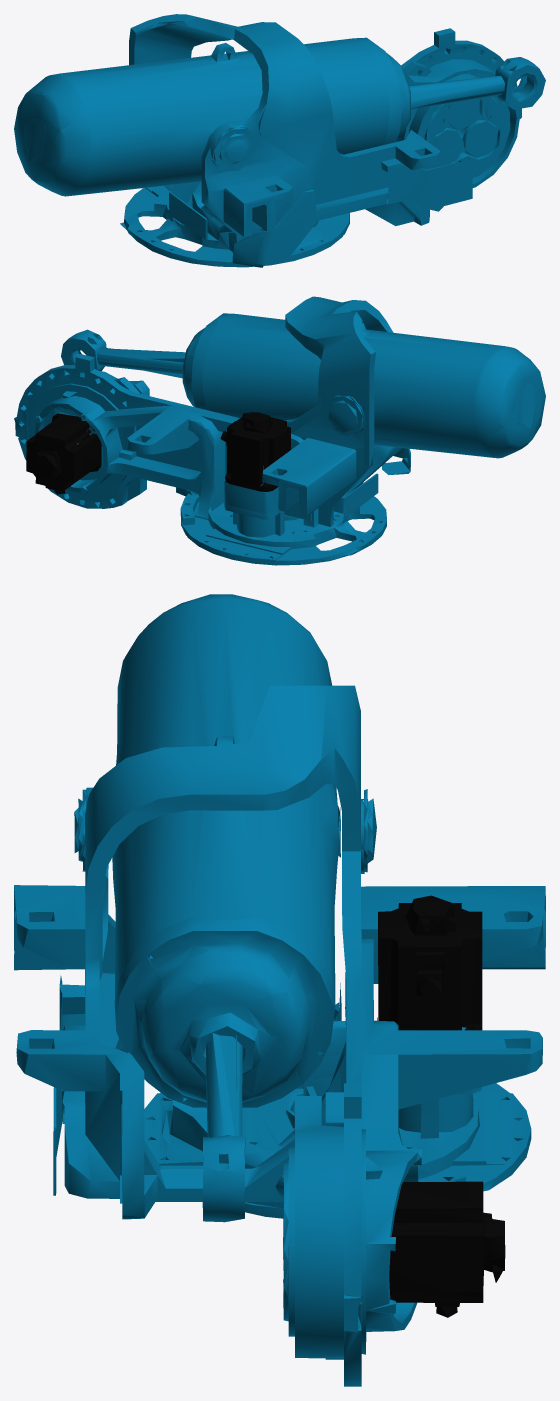
The picture shows the model from 3 angles, top to bottom: view 1: azimuth 30°, elevation 25°; view 2: azimuth 150°, elevation 25°; view 3: azimuth 270°, elevation 25°; orthographic projection. The views are drawn at different scales.
Visible parts, largest first — view 1: es165rd-a00_lk1; view 2: es165rd-a00_lk1; view 3: es165rd-a00_lk1.
Boxes of the visible parts, <box> form: es165rd-a00_lk1: <box>14,14,545,267</box>; es165rd-a00_lk1: <box>14,296,545,565</box>; es165rd-a00_lk1: <box>14,594,545,1386</box>.
Bounding box in the file's own units: 1.83 × 0.9209 × 0.8724.
